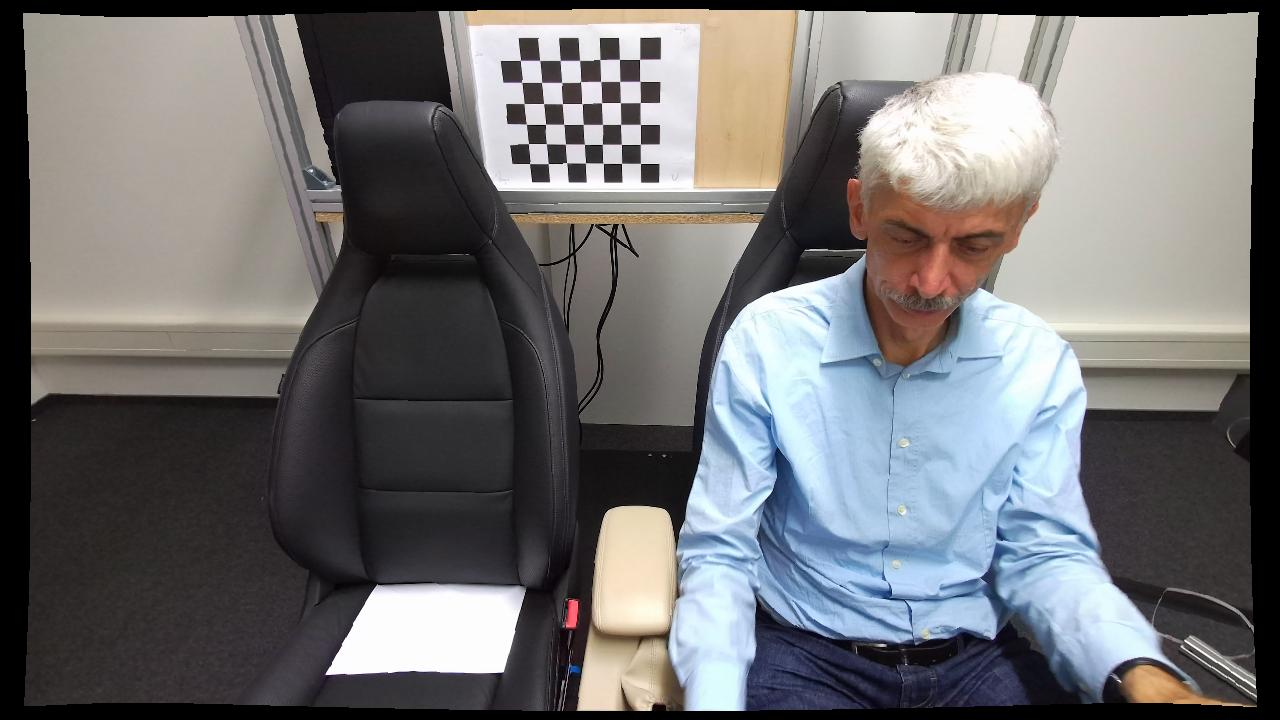Distracted: (674, 72, 1152, 714)
